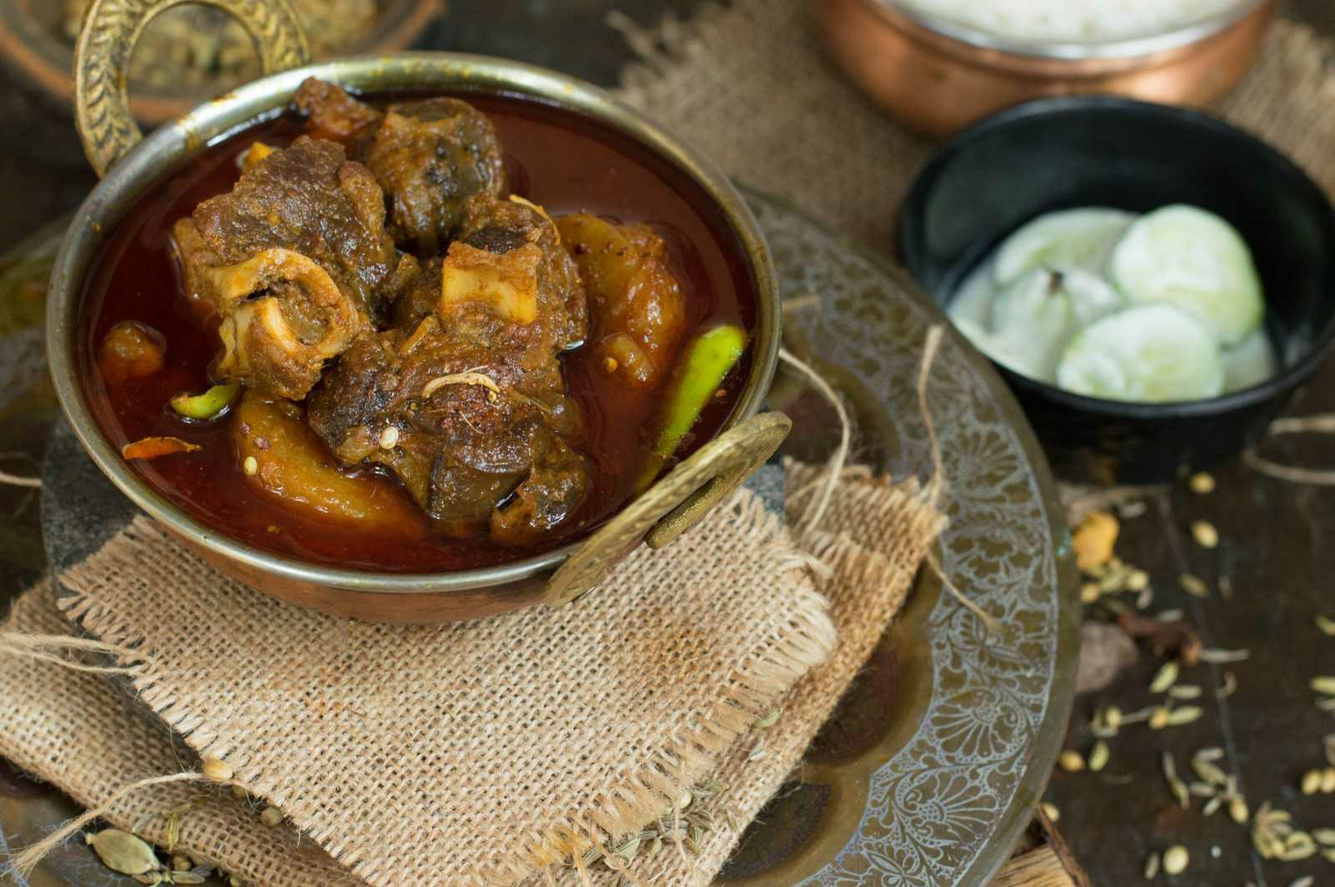MuttonCurry: (69, 74, 747, 573)
